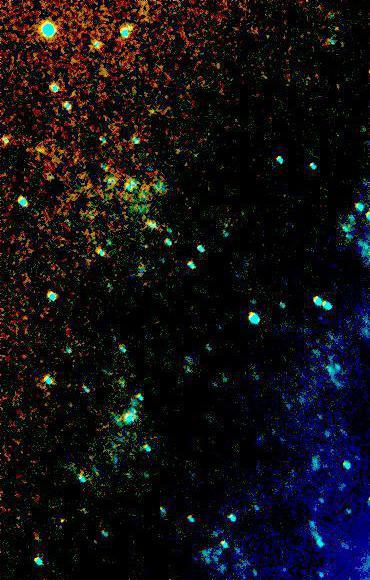star: (47, 505, 77, 535)
